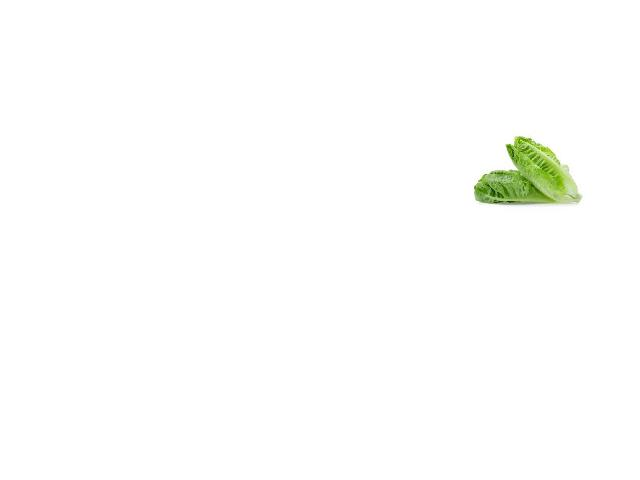lettuce: (467, 167, 558, 210)
